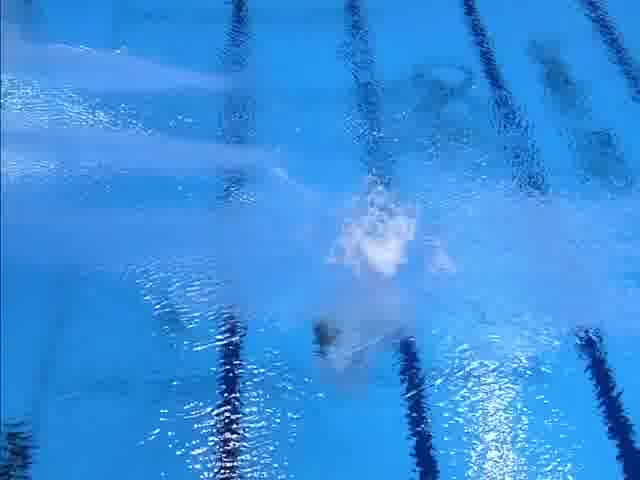core: (355, 227, 402, 276)
periphery: (274, 158, 629, 381)
